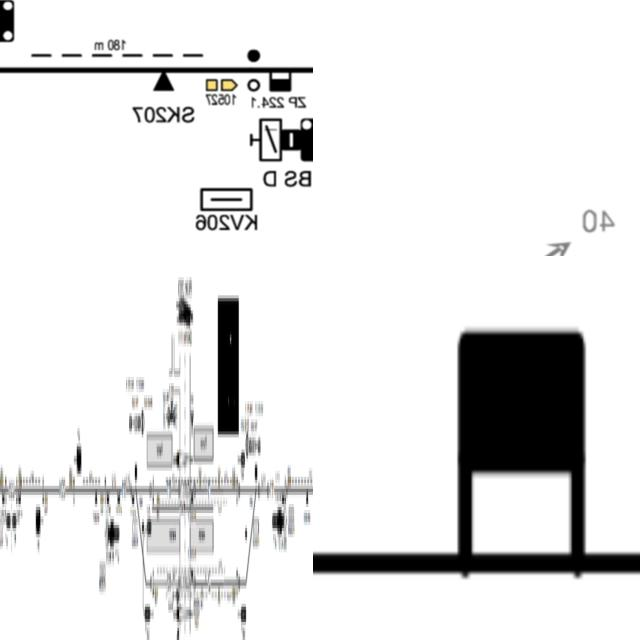mainsignal: (237, 606, 247, 626), (144, 604, 153, 622)
radzaehler: (452, 321, 590, 597), (266, 66, 294, 96), (131, 488, 134, 508), (2, 489, 5, 507), (106, 489, 109, 507), (281, 489, 284, 507), (18, 490, 20, 506), (118, 488, 120, 502)
trackjoint: (193, 576, 196, 594), (177, 483, 180, 501), (149, 574, 152, 592), (238, 574, 240, 592), (193, 483, 196, 495), (178, 574, 180, 592), (149, 483, 151, 501), (267, 484, 269, 500), (238, 484, 240, 500), (258, 486, 260, 498)
tracknumber: (58, 474, 67, 504), (7, 476, 15, 502), (121, 477, 126, 501), (166, 478, 171, 499), (166, 572, 171, 593), (207, 476, 211, 502), (208, 566, 211, 599), (270, 477, 274, 501)
weiche: (134, 462, 138, 492), (254, 463, 258, 490)
